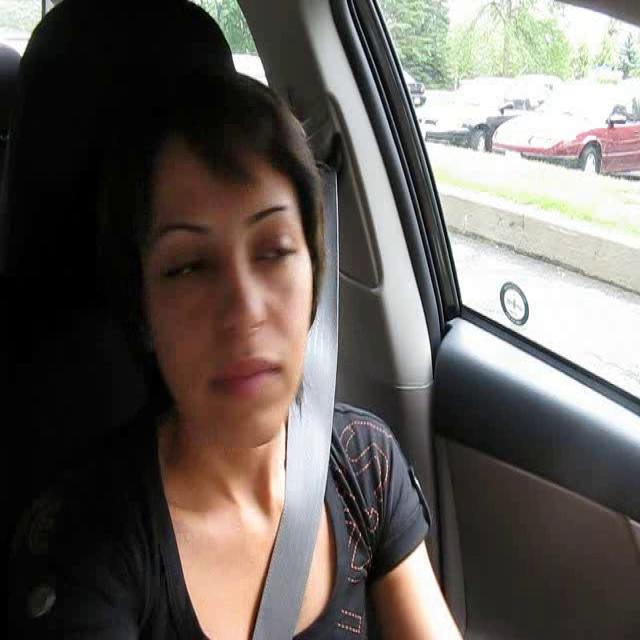close: (208, 351, 288, 396)
